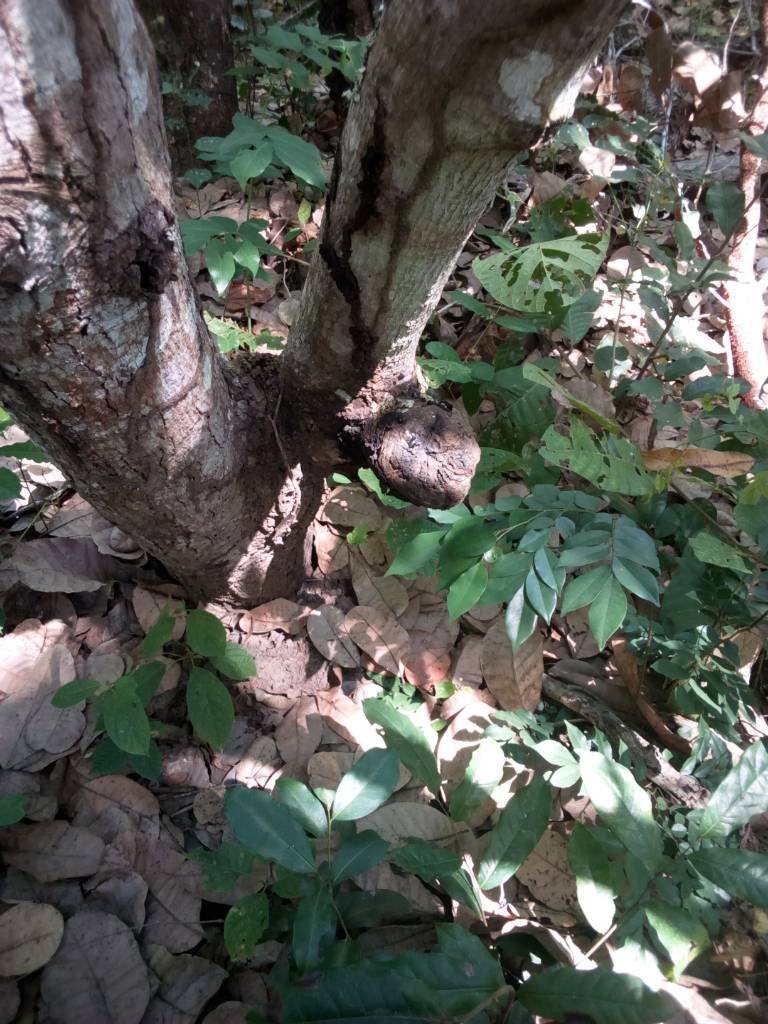Termites: (75, 13, 183, 471), (343, 136, 447, 389), (233, 422, 311, 591)
